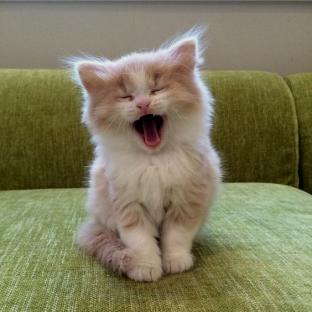Animal: (72, 35, 221, 281)
